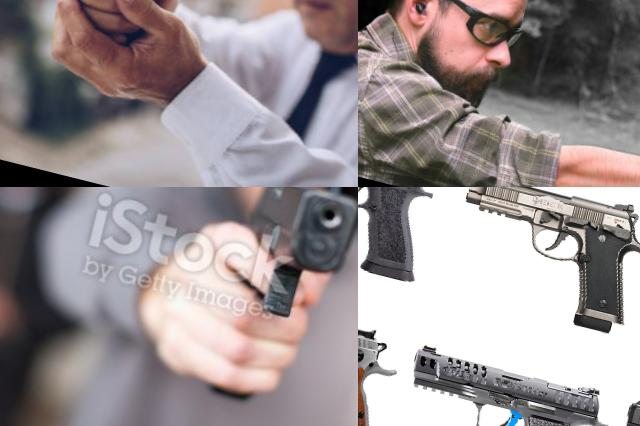handgun: (202, 187, 358, 422), (431, 187, 640, 342), (385, 341, 621, 426), (0, 0, 191, 86), (358, 289, 458, 426), (358, 187, 467, 289)
